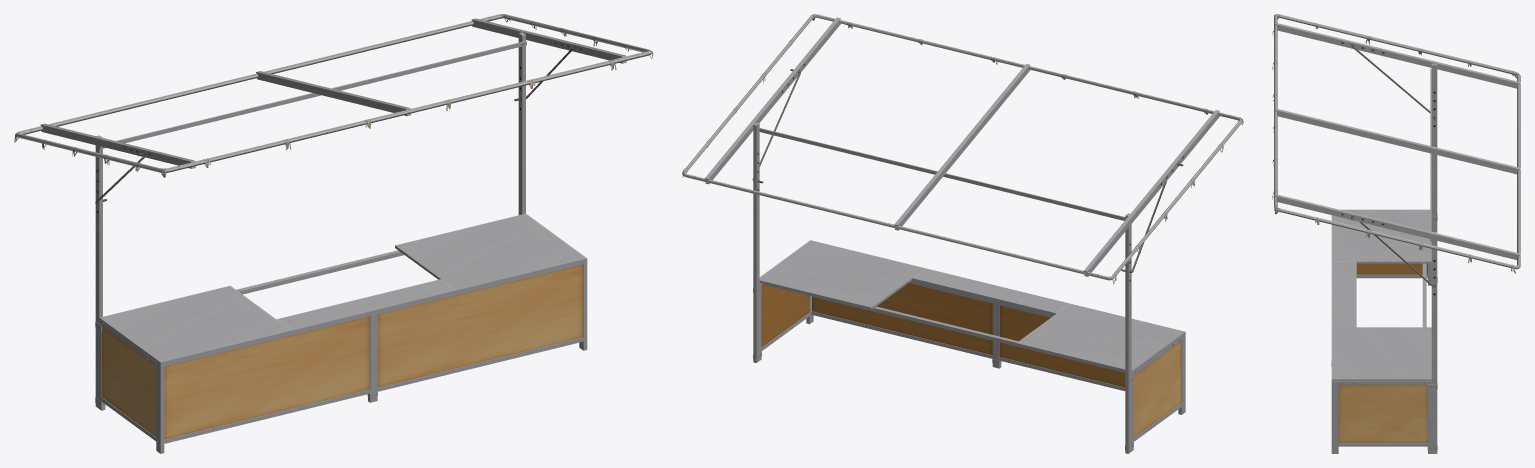
Rendered from jsf_2P_s04_c05_t02.fbx.
3 views of the same model, side by side, from view 1: azimuth 30°, elevation 25°; view 2: azimuth 150°, elevation 25°; view 3: azimuth 270°, elevation 25° (orthographic). The views are drawn at different scales.
Visible parts, largest first — view 1: Base_s04_c05, Table_2P_s04_t02, Pillar2_s04, Rope_2P_s04; view 2: Base_s04_c05, Table_2P_s04_t02, Pillar2_s04; view 3: Pillar2_s04, Table_2P_s04_t02, Base_s04_c05, Rope_2P_s04.
Boxes of the visible parts, bbox=[...] form: Base_s04_c05: bbox=[95, 258, 587, 453]; Table_2P_s04_t02: bbox=[99, 213, 586, 365]; Pillar2_s04: bbox=[15, 14, 651, 408]; Rope_2P_s04: bbox=[14, 14, 653, 177]; Base_s04_c05: bbox=[753, 240, 1185, 451]; Table_2P_s04_t02: bbox=[759, 240, 1184, 374]; Pillar2_s04: bbox=[682, 14, 1242, 453]; Pillar2_s04: bbox=[1274, 14, 1520, 453]; Table_2P_s04_t02: bbox=[1332, 209, 1431, 384]; Base_s04_c05: bbox=[1331, 215, 1437, 453]; Rope_2P_s04: bbox=[1272, 14, 1516, 273].
Bounding box in the file's own units: 395 × 244 × 211.
